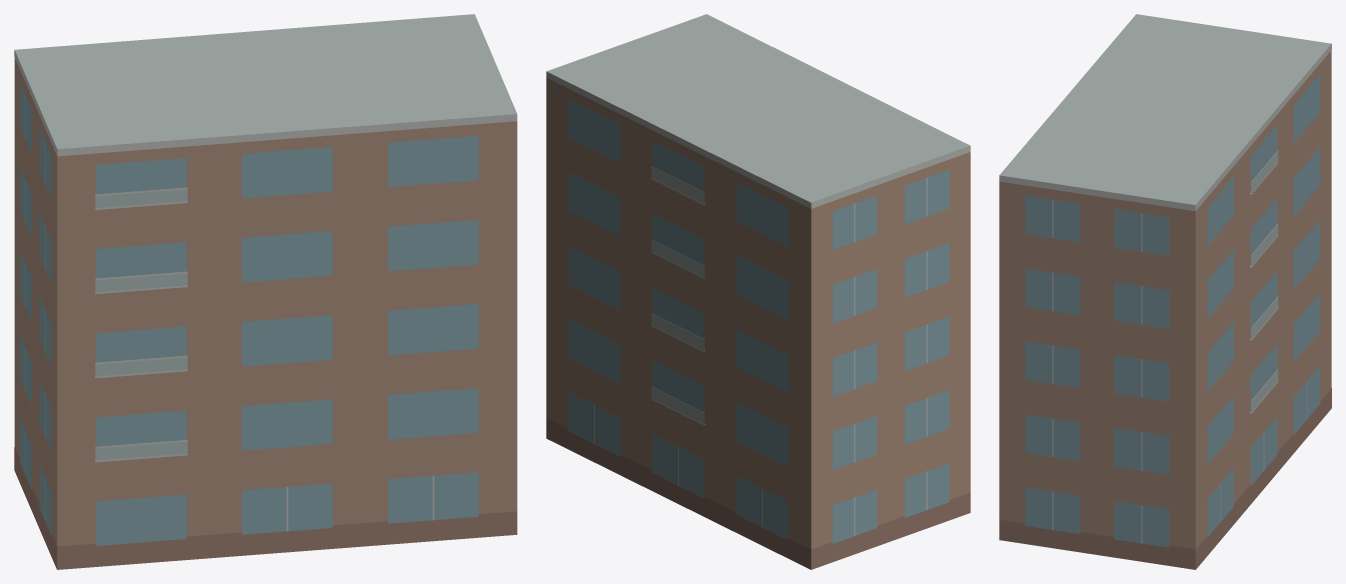
The model's file is survey-upis-32893556.glb.
The picture shows the model from 3 angles, left to right: view 1: azimuth 30°, elevation 25°; view 2: azimuth 150°, elevation 25°; view 3: azimuth 270°, elevation 25°; orthographic projection. The views are drawn at different scales.
Visible parts, largest first — view 1: survey-upis-32893556.tmp; view 2: survey-upis-32893556.tmp; view 3: survey-upis-32893556.tmp.
Boxes of the visible parts, bbox=[...] form: survey-upis-32893556.tmp: bbox=[14, 14, 517, 569]; survey-upis-32893556.tmp: bbox=[546, 14, 970, 569]; survey-upis-32893556.tmp: bbox=[999, 14, 1331, 569].
Size of the model in its own units: 16.31 by 14.5 by 11.99.
